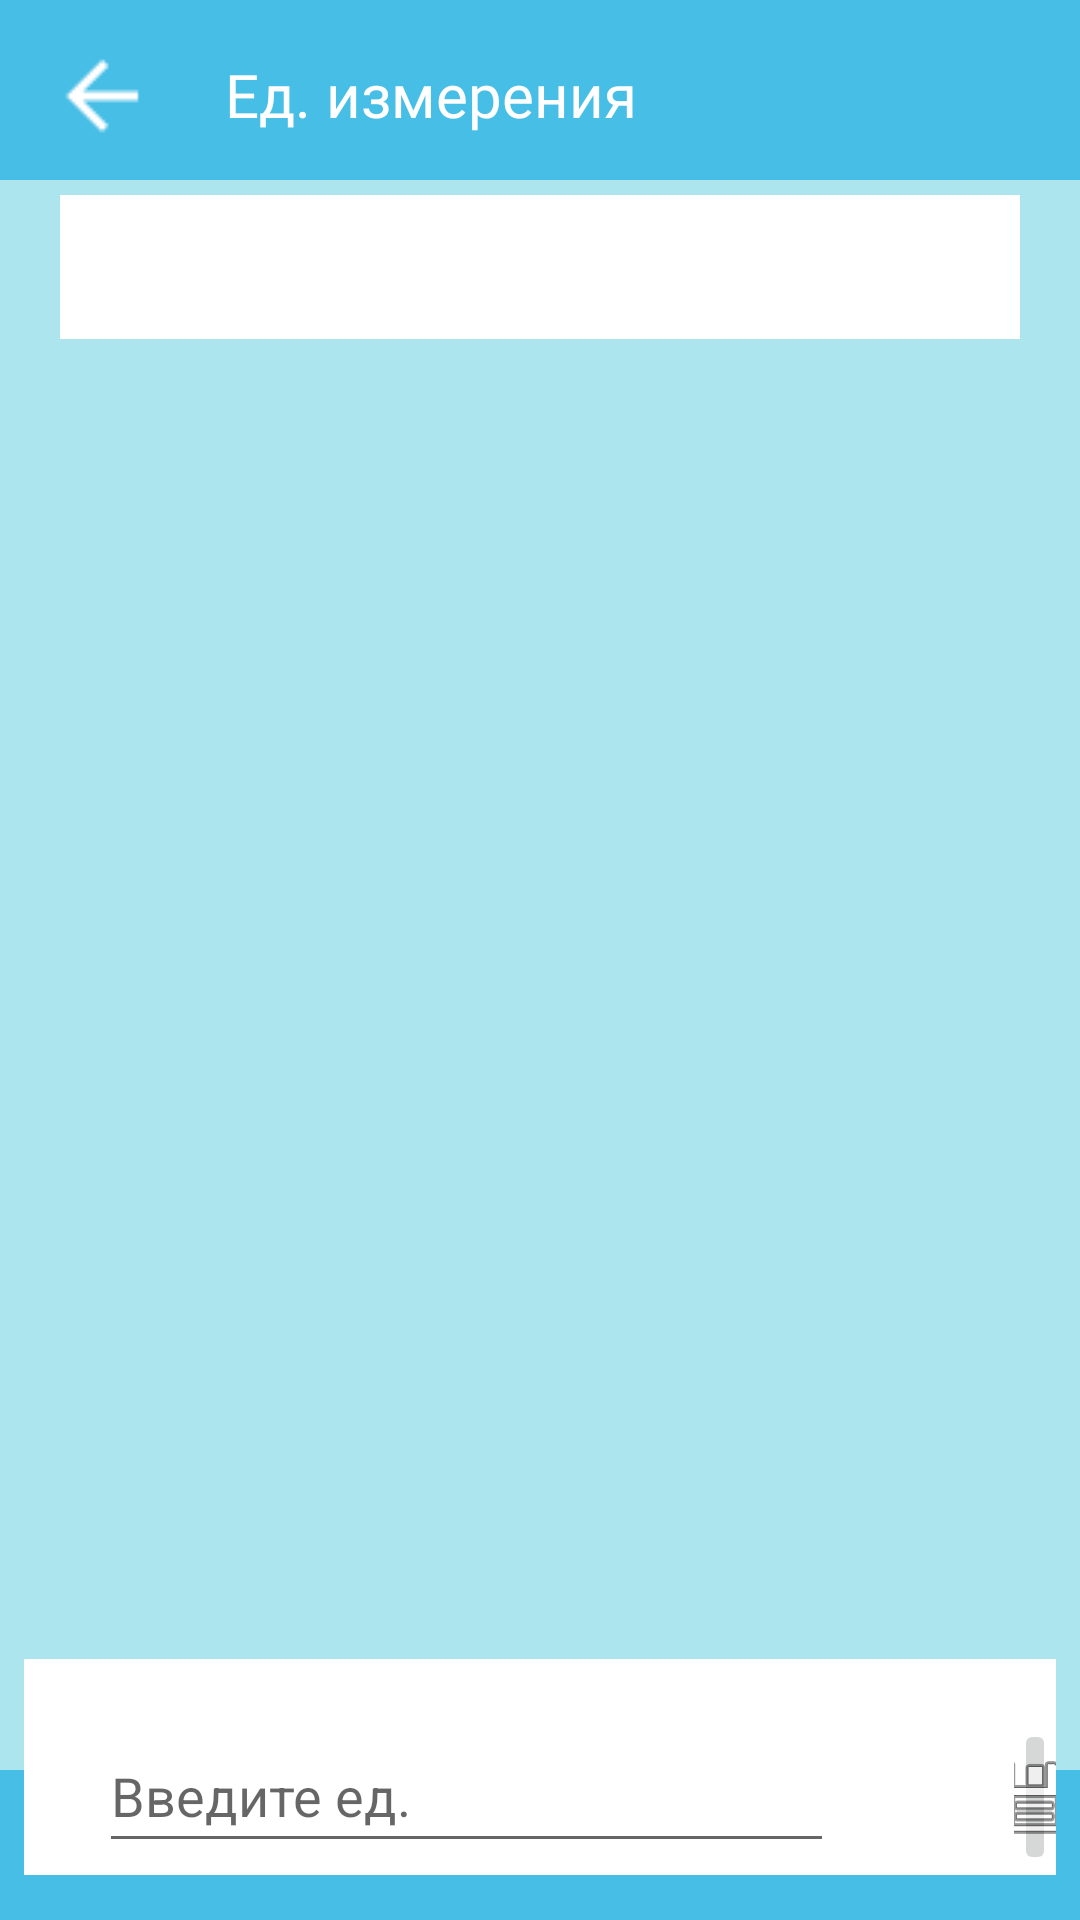

Locate icon controls on the screen. Image size 1080x1920, boxes as (x1, y1, x2, y2).
arrow back: (66, 59, 139, 132)
